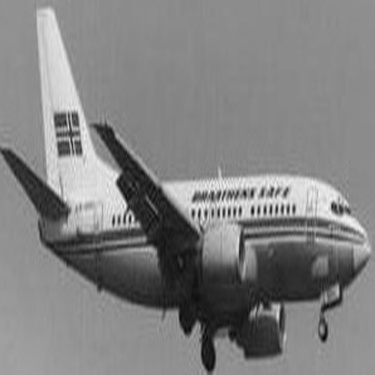airplane: (2, 5, 371, 374)
